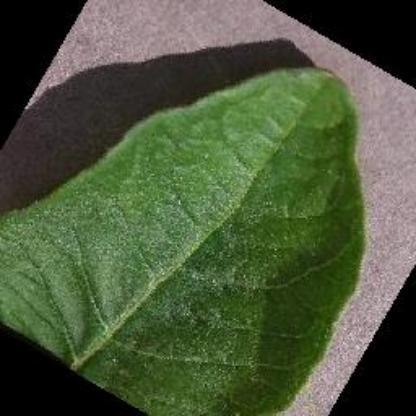Healthy-plant: (0, 59, 370, 402)
